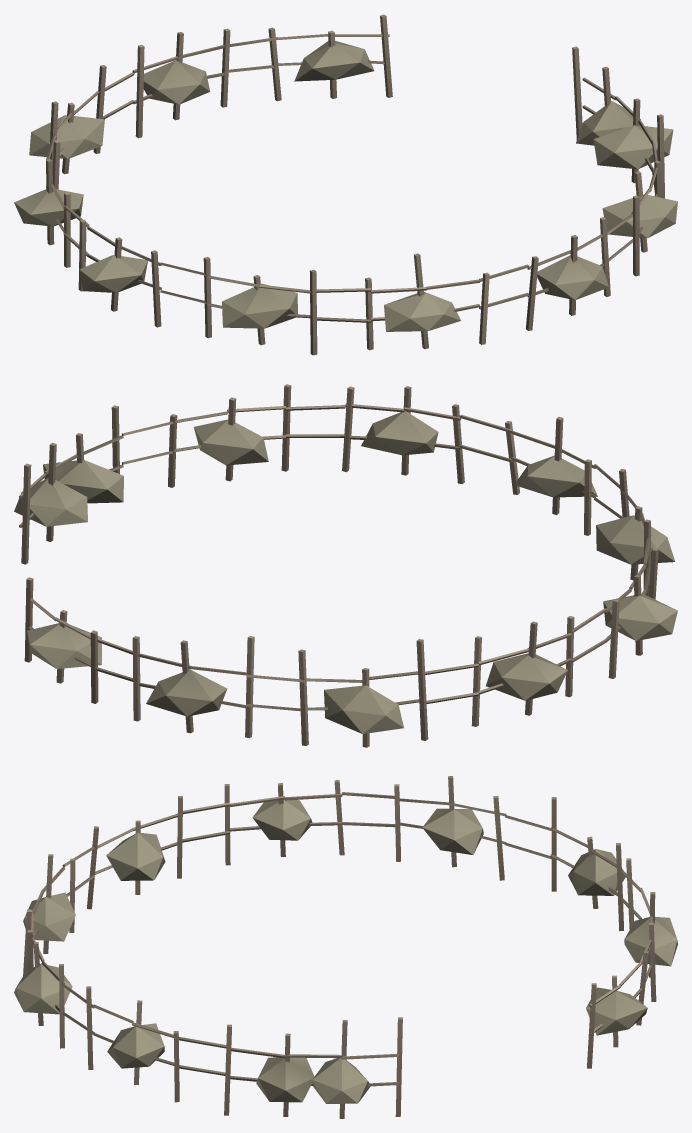
Rendered from mil_kraal.glb.
The picture shows the model from 3 angles, top to bottom: view 1: azimuth 30°, elevation 25°; view 2: azimuth 150°, elevation 25°; view 3: azimuth 270°, elevation 25°; orthographic projection. The views are drawn at different scales.
Visible parts, largest first — view 1: mil_kraal; view 2: mil_kraal; view 3: mil_kraal.
Part boxes in pixels (bbox=[...]): mil_kraal: bbox=[14, 14, 677, 355]; mil_kraal: bbox=[14, 384, 677, 747]; mil_kraal: bbox=[14, 776, 677, 1118].
Bounding box in the file's own units: 11.21 × 1.71 × 10.68.
